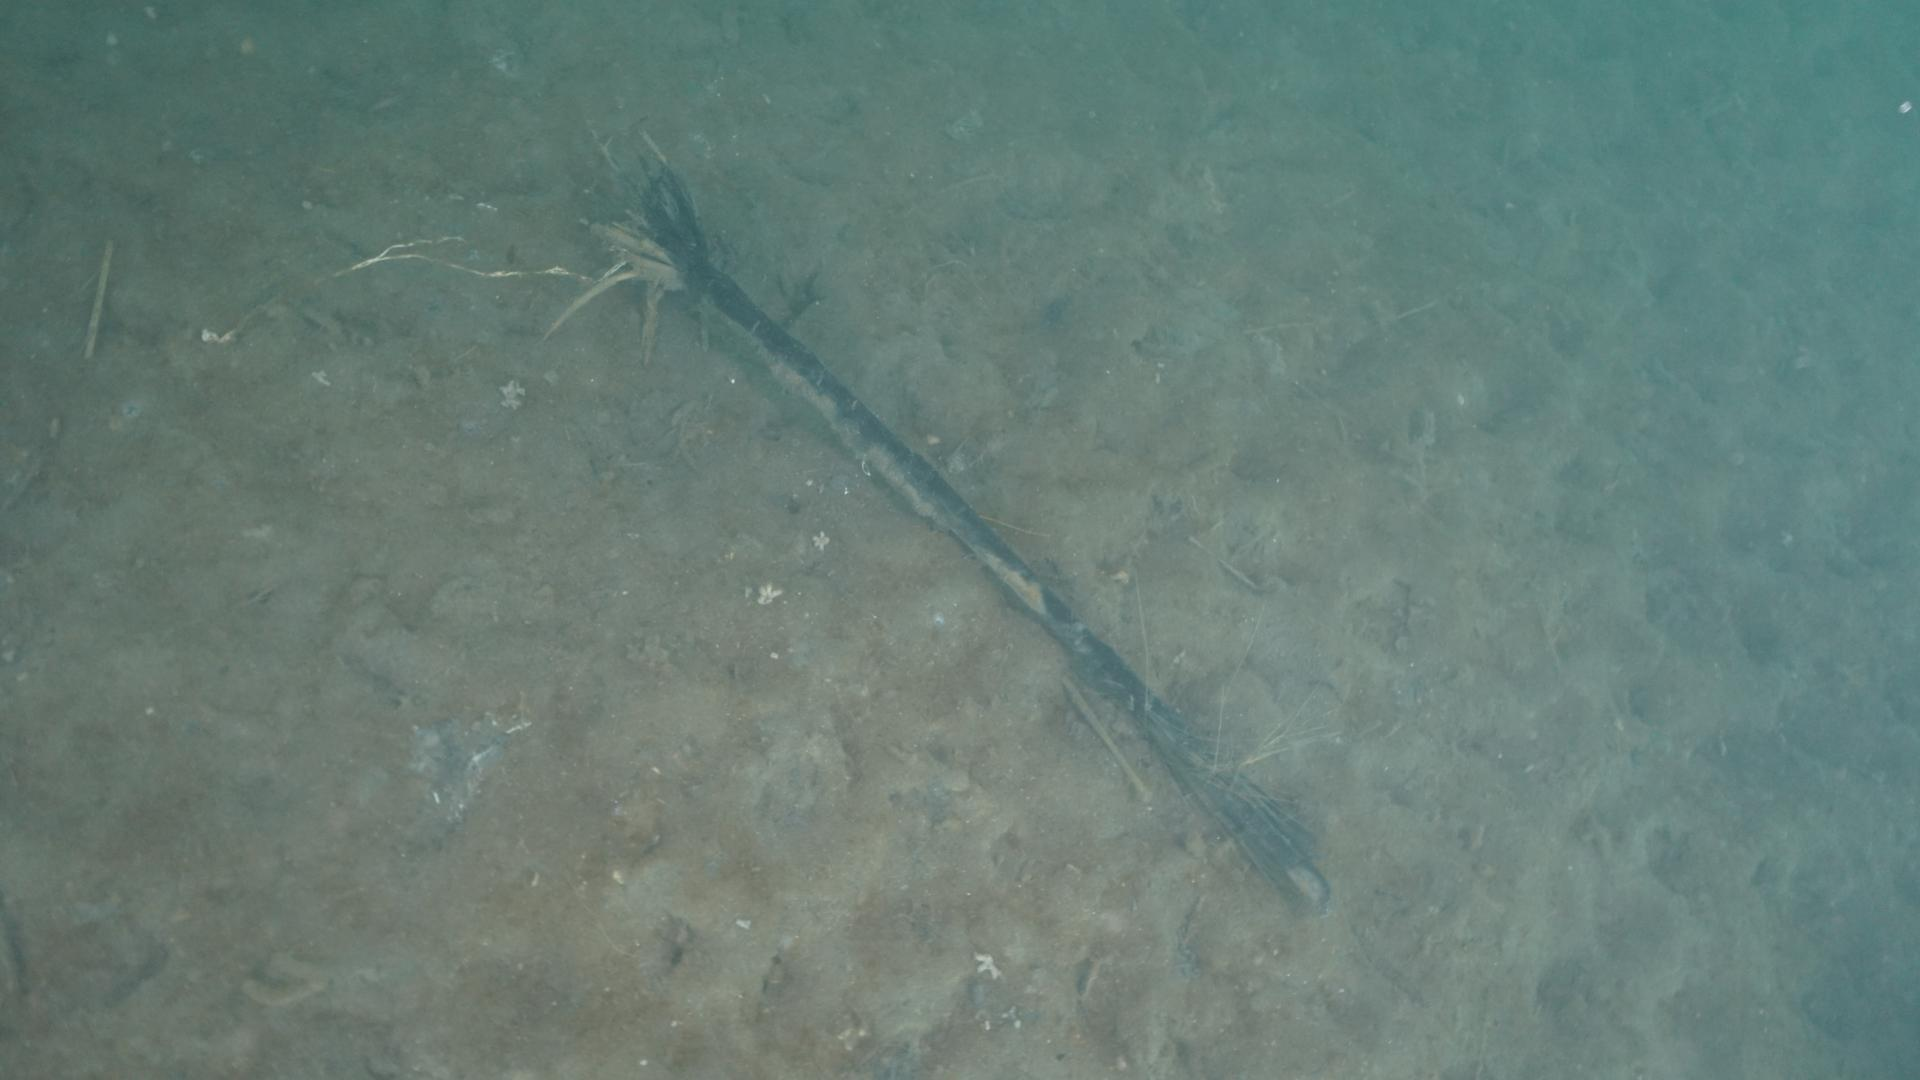wood: (620, 173, 1331, 916)
